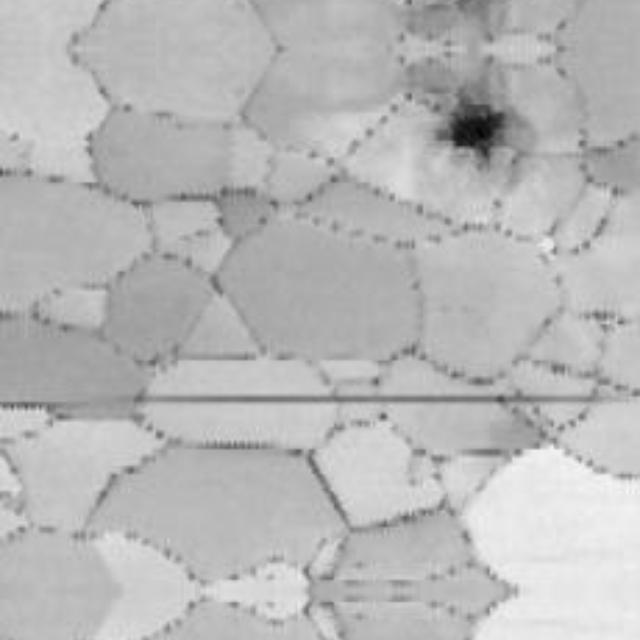good_void: (434, 78, 511, 165)
